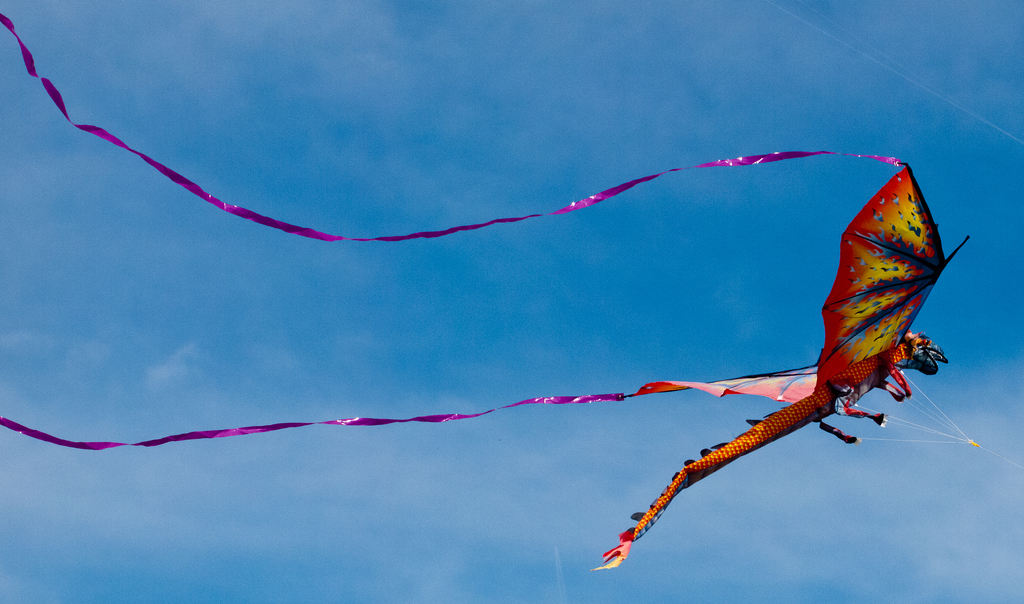kite: (1, 11, 974, 581)
